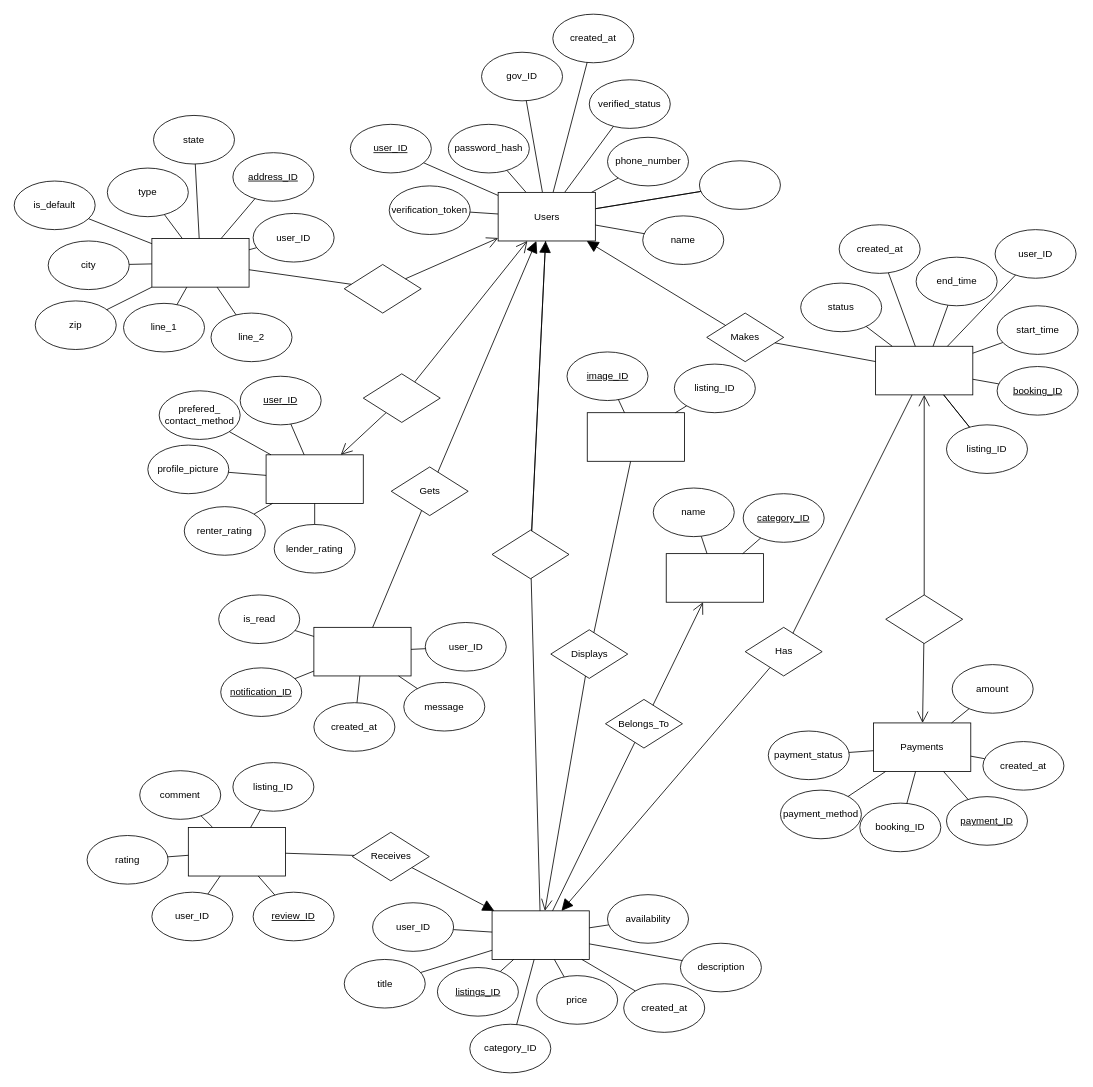
Some shapes in this 1093 by 1087 pixel diagram are drawn without their labels. The centre of each missing label's shape, as x and y in pixels:
Addresses: pixel 200 262
Bookings: pixel 924 370
Categories: pixel 714 577
email: pixel 739 184
Is: pixel 401 397
ListingImages: pixel 635 436
Listings: pixel 540 934
Lives: pixel 382 288
Notifications: pixel 362 651
Owns: pixel 530 554
Processes: pixel 924 619
Reviews: pixel 237 851
UserProfiles: pixel 314 478
